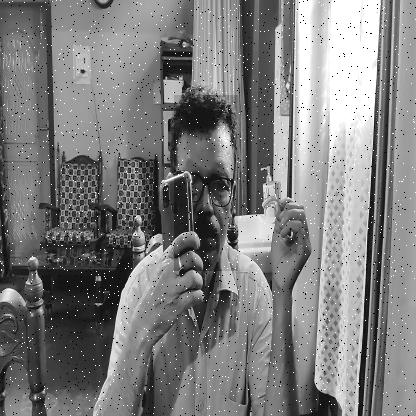Normal: (174, 95, 238, 271)
